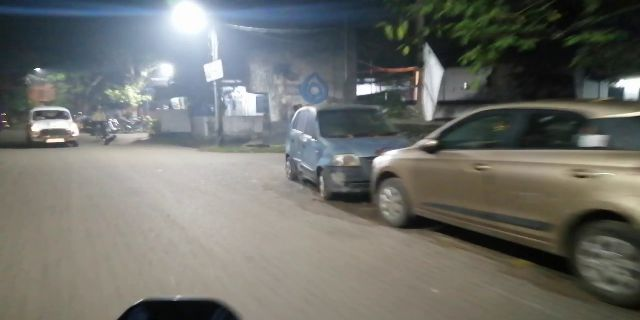Car: (281, 95, 400, 199), (25, 102, 82, 150)
